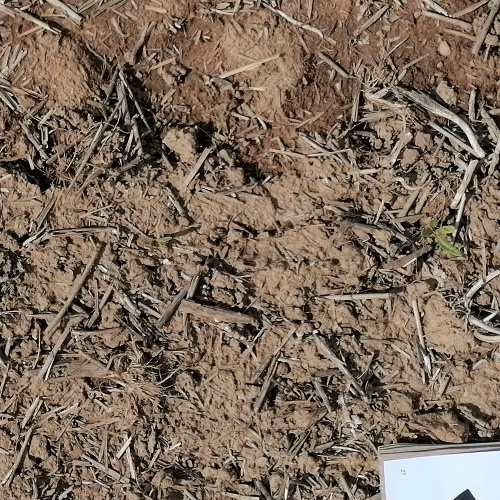beet: (422, 220, 463, 259)
